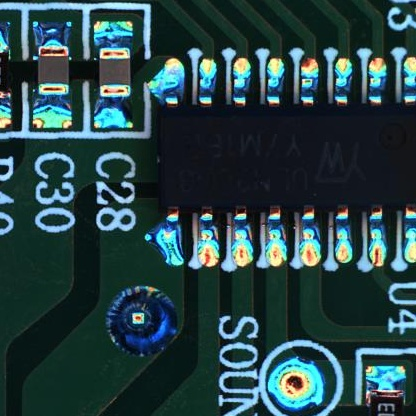spot: (106, 284, 178, 354), (266, 357, 326, 410)
